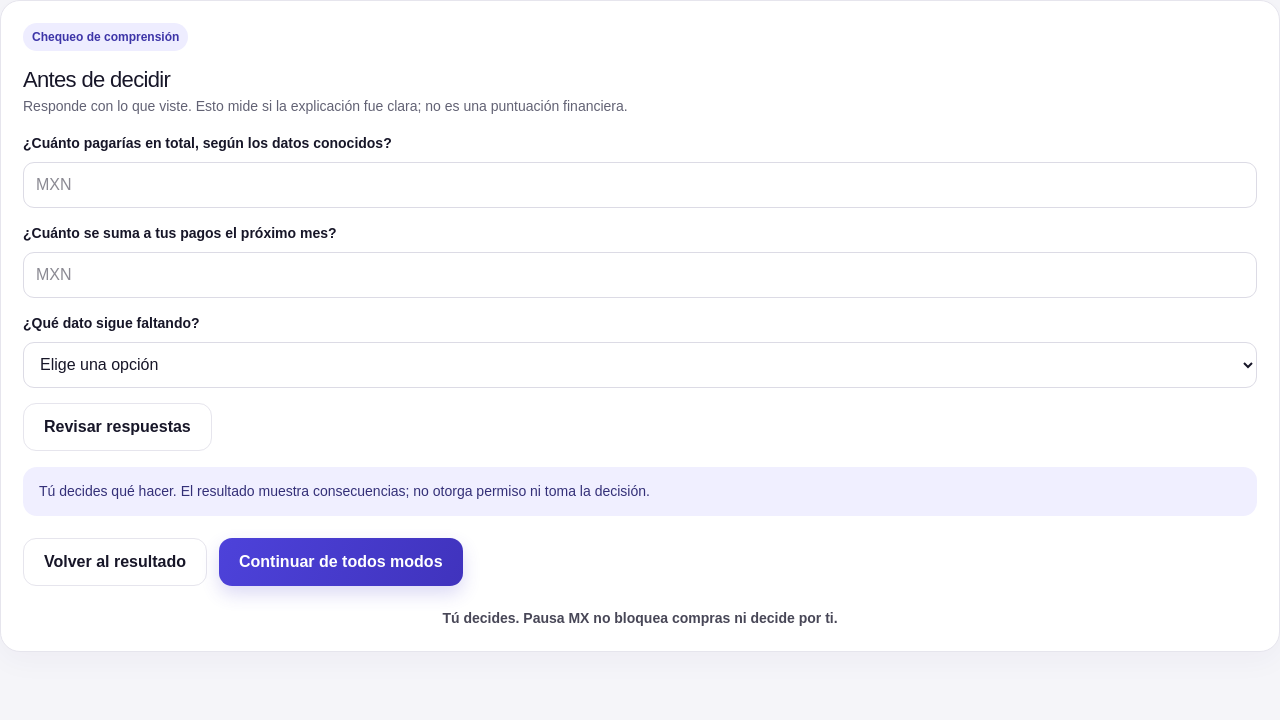
Test: buyer-first product constraints › grades correct answers as comprehension, not a financial score
Type "3000" into the number field labelled "¿Cuánto pagarías en total, según los datos conocidos?".
click(640, 185); type("3000")  # box x1=23 y1=162 x2=1257 y2=208
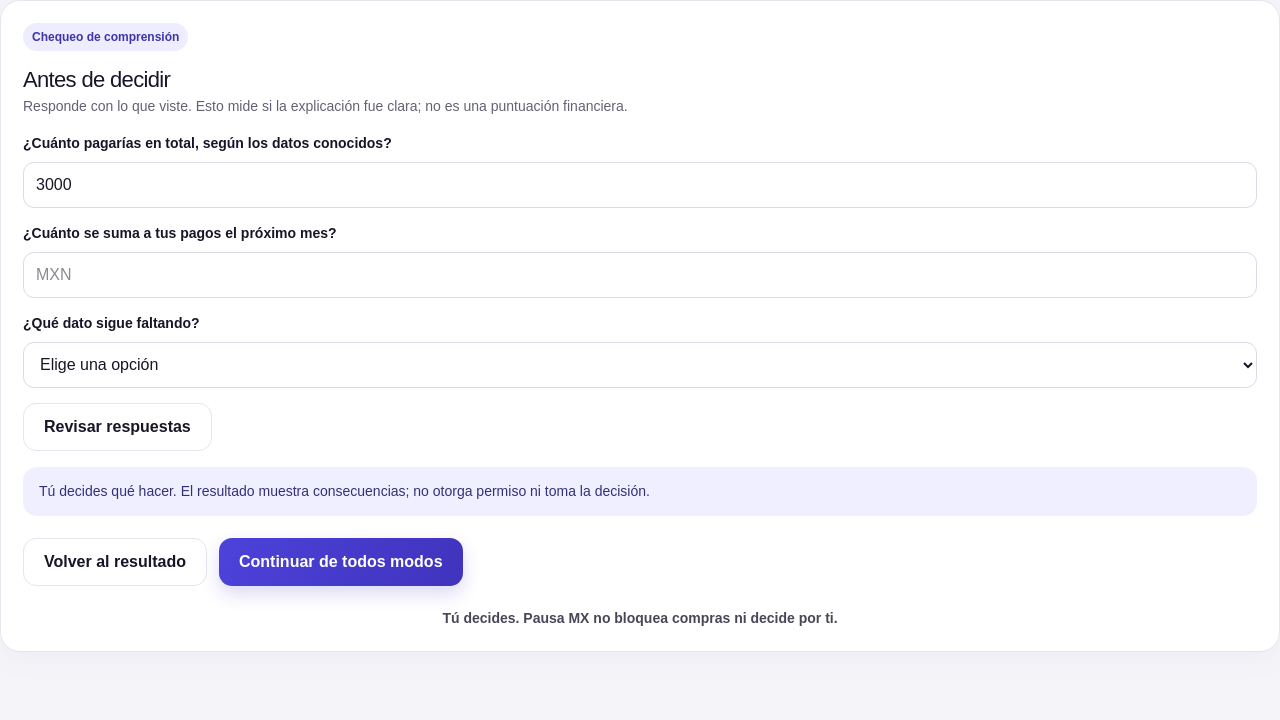
Type "1700" into the number field labelled "¿Cuánto se suma a tus pagos el próximo mes?".
click(640, 275); type("1700")  # box x1=23 y1=252 x2=1257 y2=298
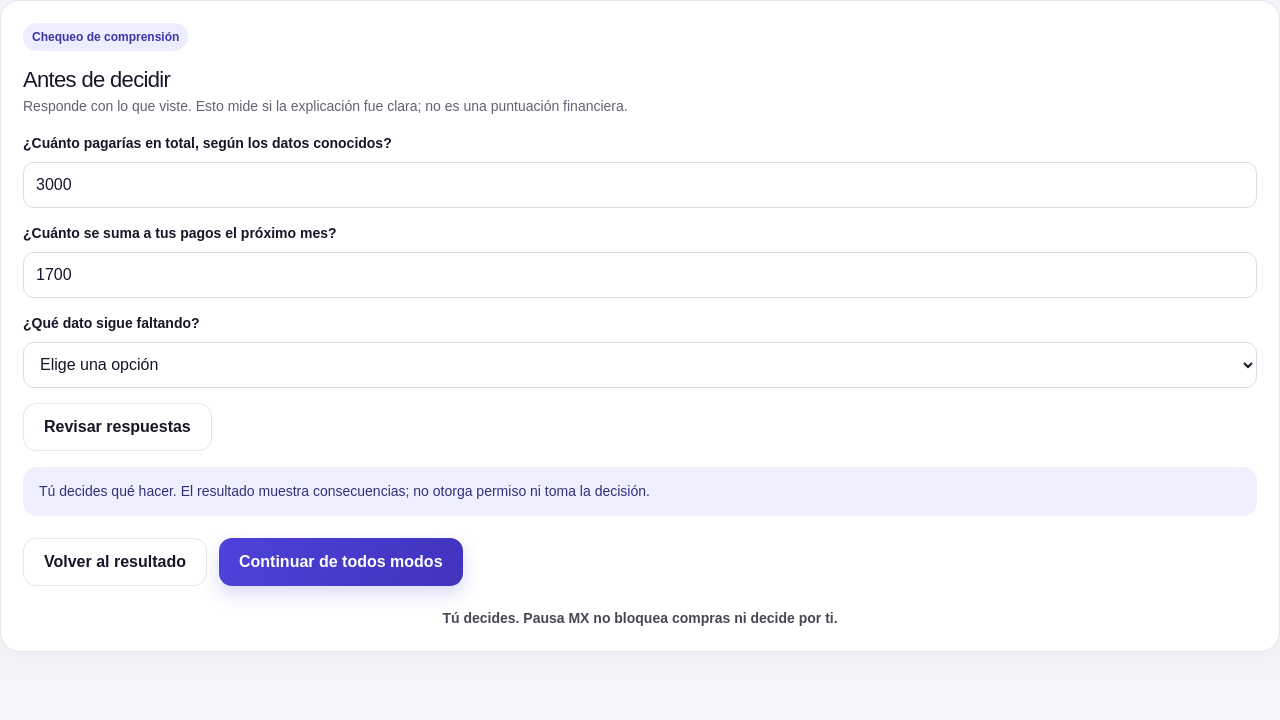
Select "Puede faltar información: comisiones, fecha u otras deudas" in the dropdown labelled "¿Qué dato sigue faltando?" at (640, 365), box x1=23 y1=342 x2=1257 y2=388
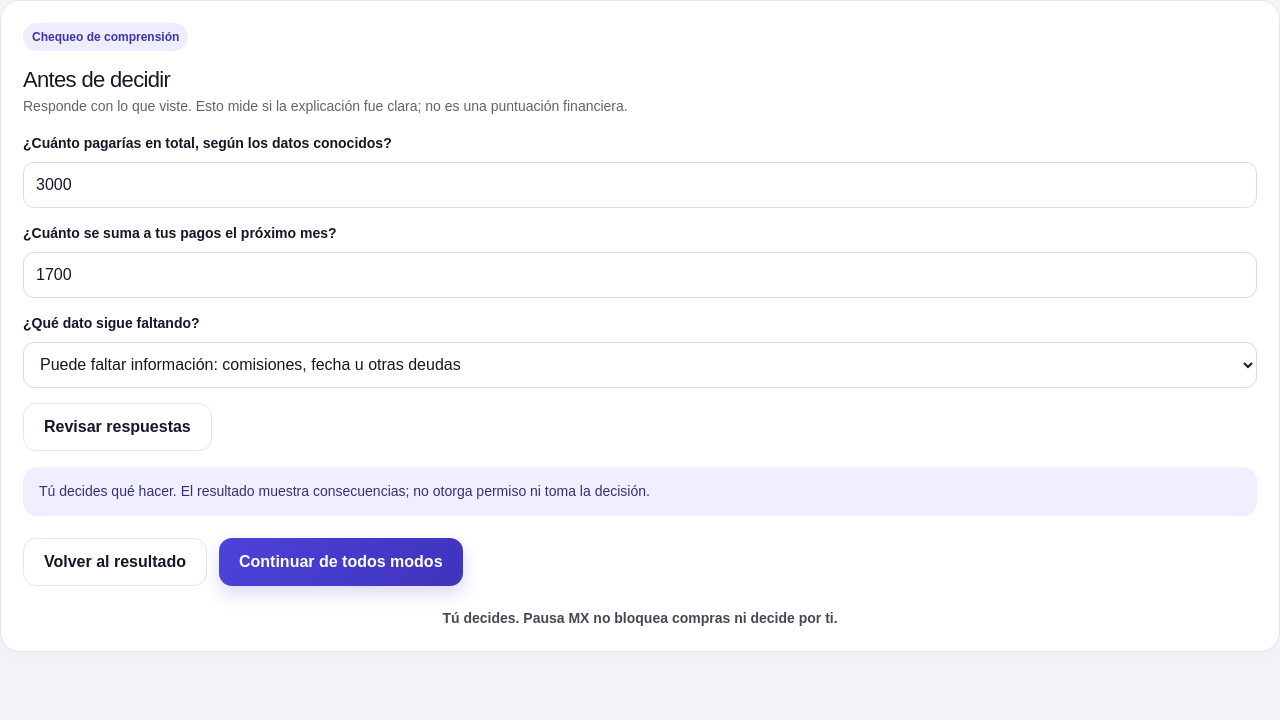
Click the button "Revisar respuestas".
click(117, 427)  # box x1=23 y1=403 x2=212 y2=451
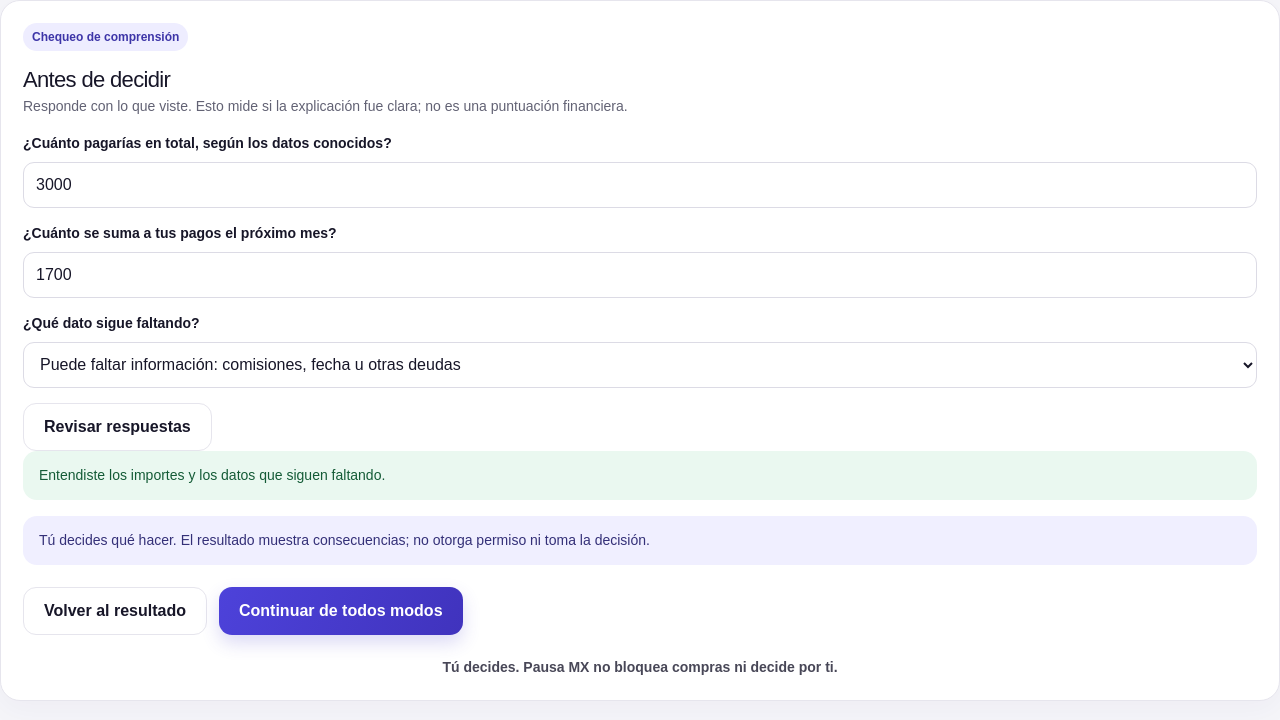
Expected: the message shows "Entendiste", x1=39 y1=467 x2=385 y2=483
